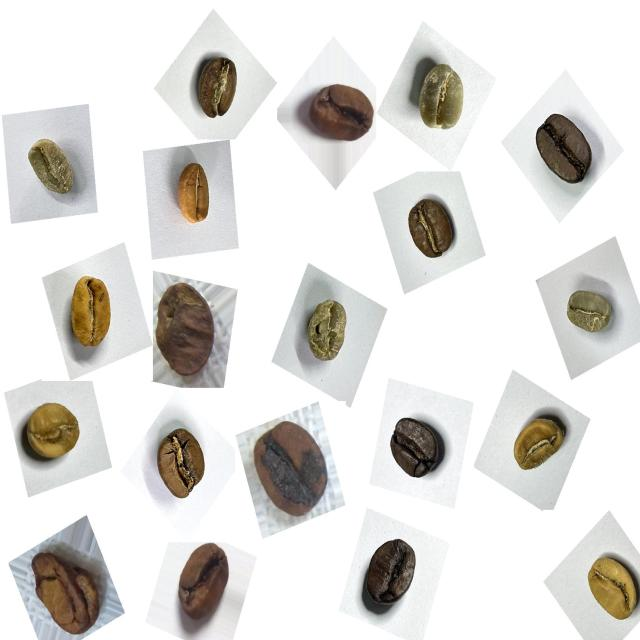bad: (244, 412, 332, 528), (146, 271, 228, 393), (22, 535, 111, 639), (164, 533, 240, 635), (301, 72, 382, 157)
dark: (524, 101, 602, 196), (356, 529, 430, 615), (382, 409, 452, 488)
green: (402, 50, 475, 140), (294, 289, 362, 374), (20, 129, 84, 209), (559, 278, 621, 346)
light: (51, 260, 124, 360), (501, 399, 576, 487), (19, 388, 94, 474), (577, 540, 640, 634), (165, 153, 222, 236)
medium: (149, 420, 221, 513), (182, 43, 252, 130), (398, 187, 466, 267)
